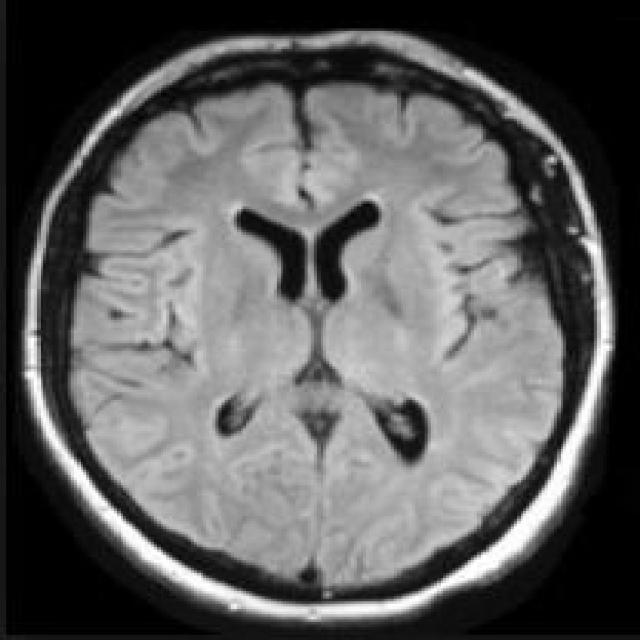No_Tumor: (24, 32, 607, 621)
